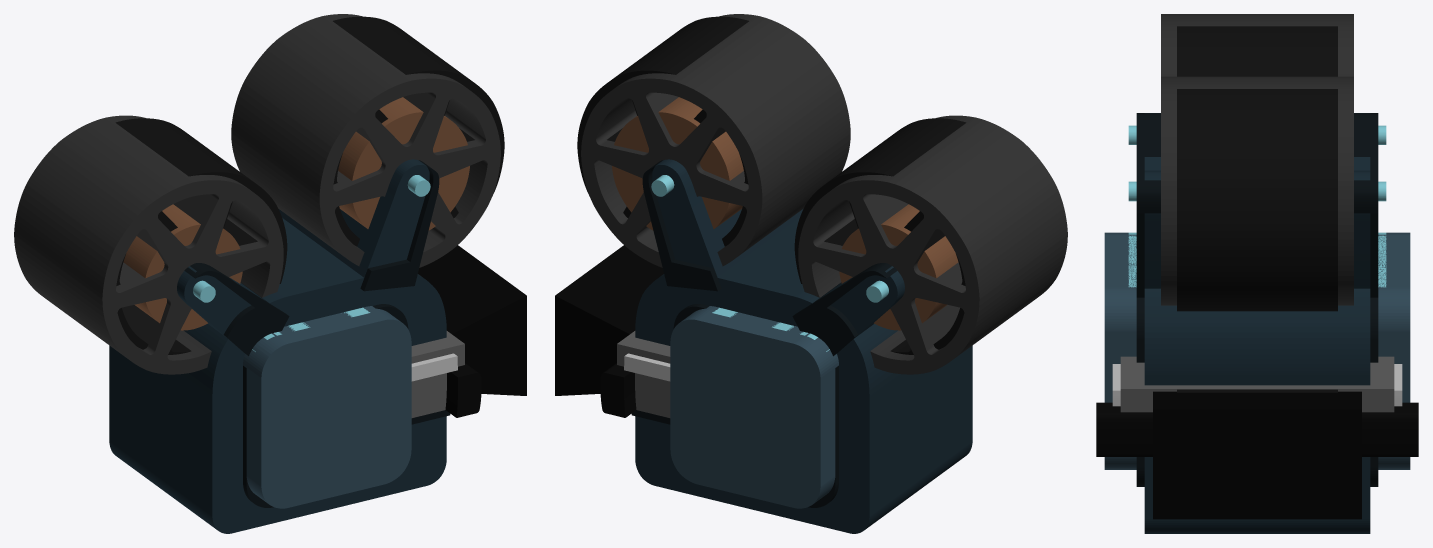
3 renders of one model, left to right at view 1: azimuth 30°, elevation 25°; view 2: azimuth 150°, elevation 25°; view 3: azimuth 270°, elevation 25°, orthographic. The views are drawn at different scales.
Parts seen in each view (by area): view 1: U+1F4FD_layer02_obj00, U+1F4FD_layer02_obj01, U+1F4FD_layer04_obj00, U+1F4FD_layer09_obj00, U+1F4FD_layer03_obj00, U+1F4FD_layer04_obj01, U+1F4FD_layer01_obj00, U+1F4FD_layer00_obj02, U+1F4FD_layer00_obj00, U+1F4FD_layer01_obj01, U+1F4FD_layer05_obj02, U+1F4FD_layer05_obj00 (+7 smaller); view 2: U+1F4FD_layer02_obj00, U+1F4FD_layer02_obj01, U+1F4FD_layer04_obj00, U+1F4FD_layer09_obj00, U+1F4FD_layer03_obj00, U+1F4FD_layer04_obj01, U+1F4FD_layer01_obj00, U+1F4FD_layer00_obj02, U+1F4FD_layer00_obj00, U+1F4FD_layer01_obj01, U+1F4FD_layer05_obj02, U+1F4FD_layer05_obj00 (+7 smaller); view 3: U+1F4FD_layer00_obj00, U+1F4FD_layer03_obj00, U+1F4FD_layer04_obj00, U+1F4FD_layer09_obj00, U+1F4FD_layer02_obj01, U+1F4FD_layer00_obj02, U+1F4FD_layer10_obj00, U+1F4FD_layer07_obj00, U+1F4FD_layer02_obj00, U+1F4FD_layer05_obj00, U+1F4FD_layer04_obj01, U+1F4FD_layer05_obj02 (+7 smaller).
Part boxes in pixels (left/top/right/bottom): U+1F4FD_layer02_obj00: left=14, top=115, right=283, bottom=374; U+1F4FD_layer02_obj01: left=231, top=14, right=500, bottom=267; U+1F4FD_layer04_obj00: left=109, top=218, right=446, bottom=533; U+1F4FD_layer09_obj00: left=243, top=306, right=411, bottom=508; U+1F4FD_layer03_obj00: left=418, top=245, right=526, bottom=395; U+1F4FD_layer04_obj01: left=278, top=159, right=429, bottom=309; U+1F4FD_layer01_obj00: left=338, top=97, right=469, bottom=230; U+1F4FD_layer00_obj02: left=116, top=118, right=287, bottom=354; U+1F4FD_layer00_obj00: left=333, top=16, right=504, bottom=245; U+1F4FD_layer01_obj01: left=123, top=204, right=242, bottom=330; U+1F4FD_layer05_obj02: left=184, top=263, right=289, bottom=356; U+1F4FD_layer05_obj00: left=360, top=160, right=439, bottom=291; U+1F4FD_layer02_obj00: left=798, top=115, right=1067, bottom=374; U+1F4FD_layer02_obj01: left=581, top=14, right=850, bottom=267; U+1F4FD_layer04_obj00: left=635, top=218, right=972, bottom=533; U+1F4FD_layer09_obj00: left=670, top=306, right=838, bottom=508; U+1F4FD_layer03_obj00: left=555, top=245, right=663, bottom=395; U+1F4FD_layer04_obj01: left=652, top=159, right=803, bottom=309; U+1F4FD_layer01_obj00: left=612, top=97, right=743, bottom=230; U+1F4FD_layer00_obj02: left=794, top=118, right=965, bottom=354; U+1F4FD_layer00_obj00: left=577, top=16, right=748, bottom=246; U+1F4FD_layer01_obj01: left=839, top=204, right=958, bottom=330; U+1F4FD_layer05_obj02: left=792, top=263, right=897, bottom=356; U+1F4FD_layer05_obj00: left=642, top=160, right=721, bottom=291; U+1F4FD_layer00_obj00: left=1177, top=92, right=1337, bottom=311; U+1F4FD_layer03_obj00: left=1153, top=391, right=1361, bottom=519; U+1F4FD_layer04_obj00: left=1144, top=288, right=1370, bottom=533; U+1F4FD_layer09_obj00: left=1104, top=232, right=1410, bottom=469; U+1F4FD_layer02_obj01: left=1161, top=76, right=1353, bottom=305; U+1F4FD_layer00_obj02: left=1177, top=29, right=1337, bottom=76; U+1F4FD_layer10_obj00: left=1096, top=402, right=1418, bottom=456; U+1F4FD_layer07_obj00: left=1120, top=356, right=1394, bottom=412; U+1F4FD_layer02_obj00: left=1161, top=14, right=1353, bottom=76; U+1F4FD_layer05_obj00: left=1136, top=180, right=1378, bottom=297; U+1F4FD_layer04_obj01: left=1144, top=170, right=1370, bottom=288; U+1F4FD_layer05_obj02: left=1136, top=113, right=1378, bottom=180.
Size of the model in its own units: 0.33 by 0.3011 by 0.2.
